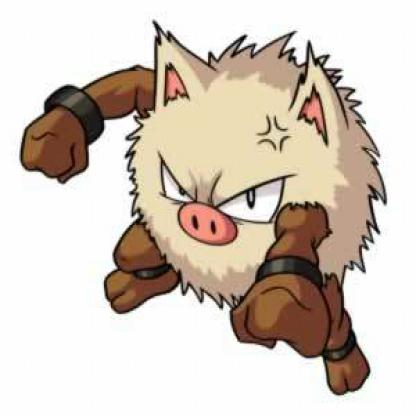Primeape: (30, 22, 396, 398)
